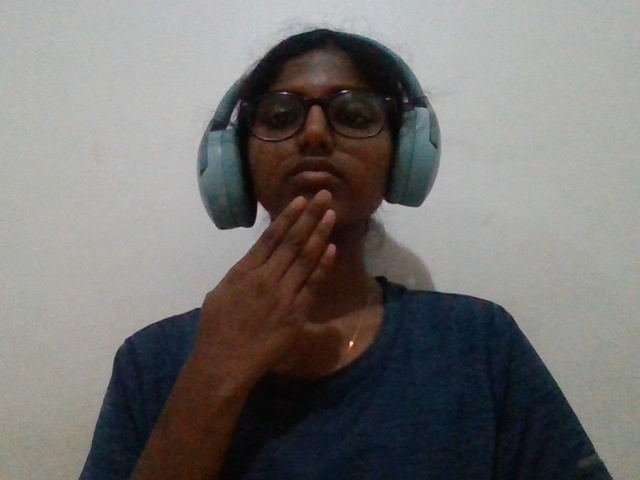Thanks: (179, 159, 381, 424)
